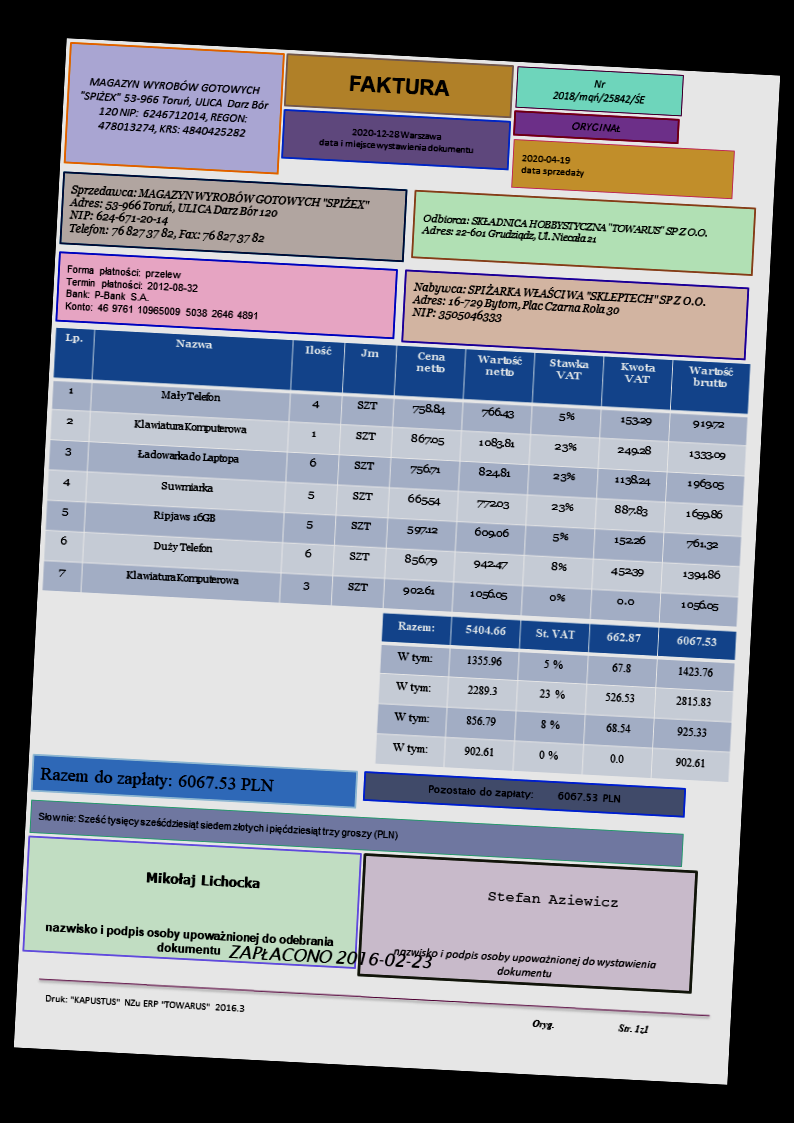Table: (40, 325, 753, 629), (373, 612, 737, 784)
TextBox: (66, 178, 373, 254), (410, 276, 709, 337), (76, 72, 272, 142), (36, 807, 399, 843), (62, 261, 263, 323), (419, 209, 708, 252), (41, 921, 333, 963), (392, 942, 658, 986), (36, 762, 277, 798), (228, 941, 438, 976), (315, 122, 477, 159), (41, 989, 247, 1016), (425, 782, 623, 807), (485, 887, 621, 912), (143, 865, 264, 893), (550, 75, 647, 109), (346, 73, 453, 100), (529, 1015, 652, 1036), (517, 149, 587, 184), (569, 118, 623, 137)
